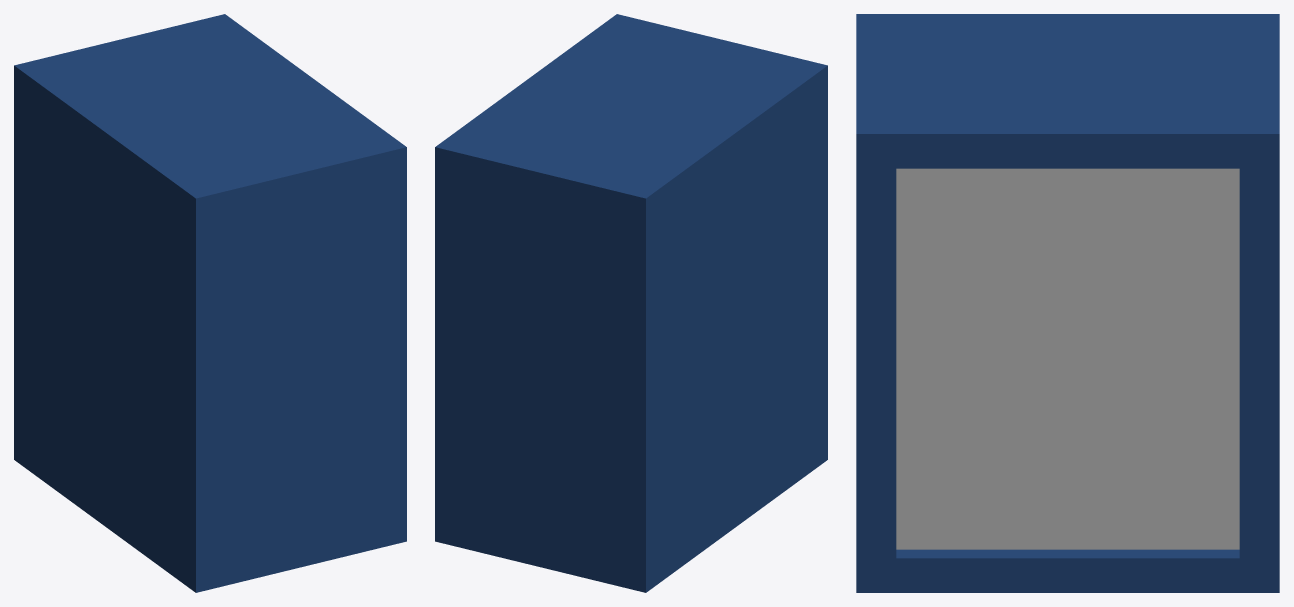
File: Caixa_de_Rede.fbx
The picture shows the model from 3 angles, left to right: view 1: azimuth 30°, elevation 25°; view 2: azimuth 150°, elevation 25°; view 3: azimuth 270°, elevation 25°; orthographic projection. The views are drawn at different scales.
Parts seen in each view (by area): view 1: Cubo; view 2: Cubo; view 3: Cubo.
Part boxes in pixels (x1,y1,x2,y2): Cubo: (14,14,406,592); Cubo: (435,14,827,592); Cubo: (856,14,1279,592).
Bounding box in the file's own units: 76.51 × 137 × 114.
